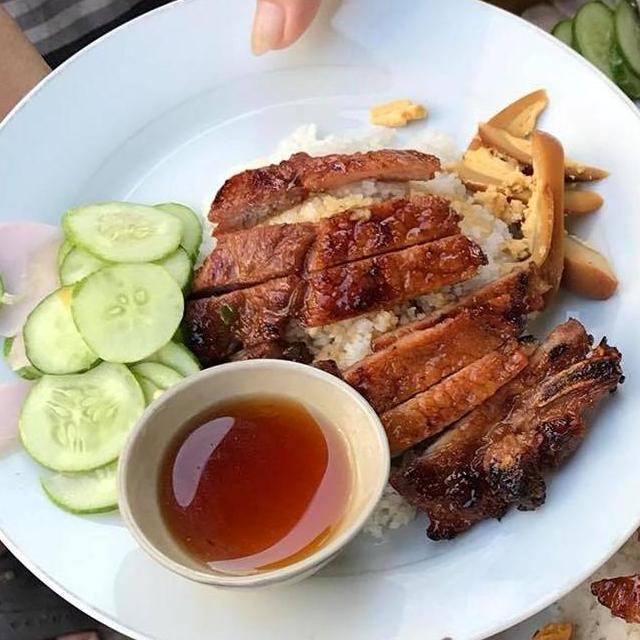com: (244, 119, 459, 228), (418, 160, 526, 316), (279, 300, 415, 374)
com suon trung: (0, 17, 640, 640)
suon: (335, 258, 630, 546), (177, 190, 493, 366), (203, 144, 445, 238)
trung: (443, 84, 622, 316)
